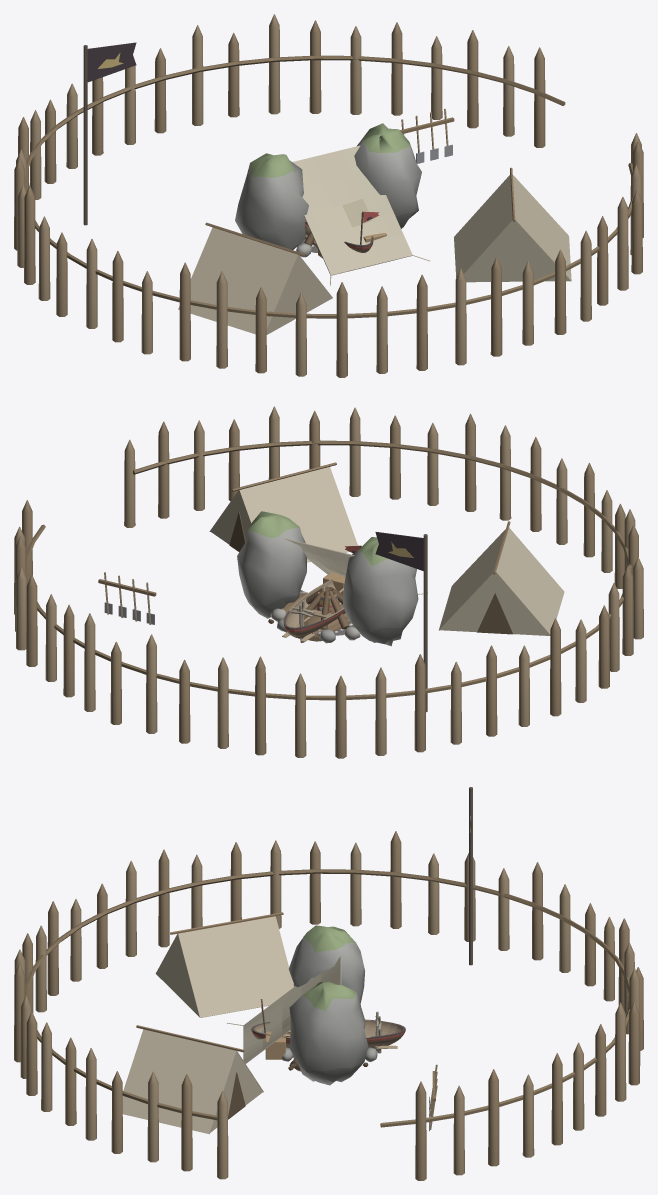
File: story.glb
The picture shows the model from 3 angles, top to bottom: view 1: azimuth 30°, elevation 25°; view 2: azimuth 150°, elevation 25°; view 3: azimuth 270°, elevation 25°; orthographic projection.
Parts seen in each view (by area): view 1: dig_camp, powder_store; view 2: dig_camp, powder_store, bonfire, rowboat; view 3: dig_camp, powder_store, rowboat.
Part boxes in pixels (x1,y1,x2,y2): dig_camp: [14, 14, 643, 377]; powder_store: [235, 123, 429, 285]; dig_camp: [14, 406, 643, 758]; powder_store: [237, 511, 427, 646]; bonfire: [270, 586, 360, 643]; rowboat: [282, 545, 361, 642]; dig_camp: [14, 787, 643, 1180]; powder_store: [227, 925, 368, 1085]; rowboat: [251, 999, 405, 1048].
Size of the model in its own units: 15.18 by 5.13 by 15.49.
